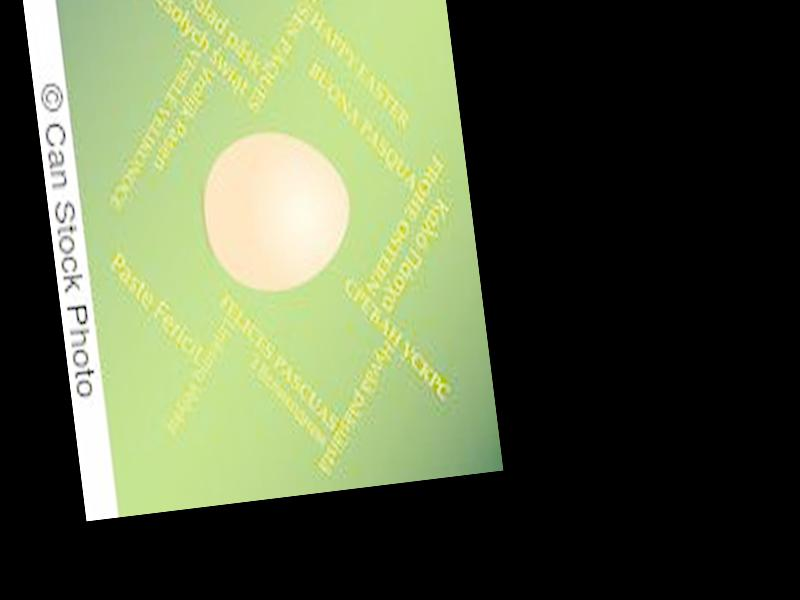Eggs: (195, 124, 358, 296)
